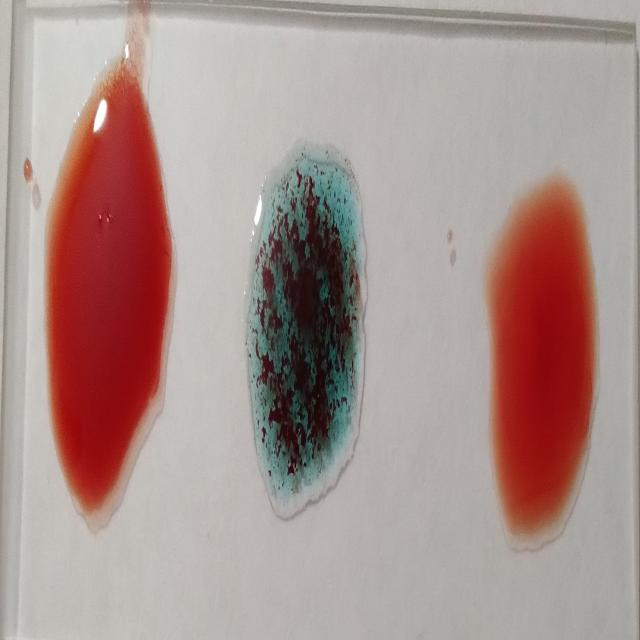A: (245, 159, 366, 500)
